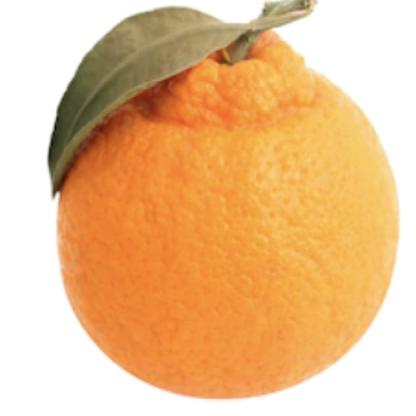fresh: (55, 9, 399, 398)
